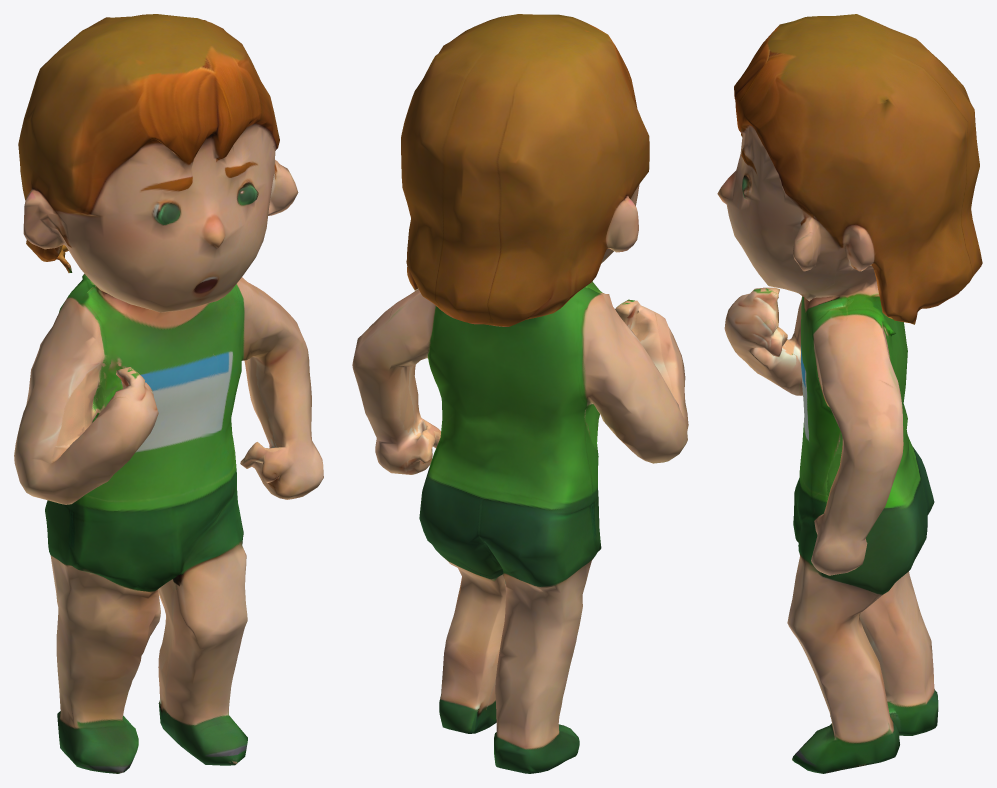
File: marathon.glb
3 renders of one model, left to right at view 1: azimuth 30°, elevation 25°; view 2: azimuth 150°, elevation 25°; view 3: azimuth 270°, elevation 25°, orthographic. The views are drawn at different scales.
Bounding box in the file's own units: 28622 × 65469 × 22180.
Materials: 1 (1 with a texture image).
